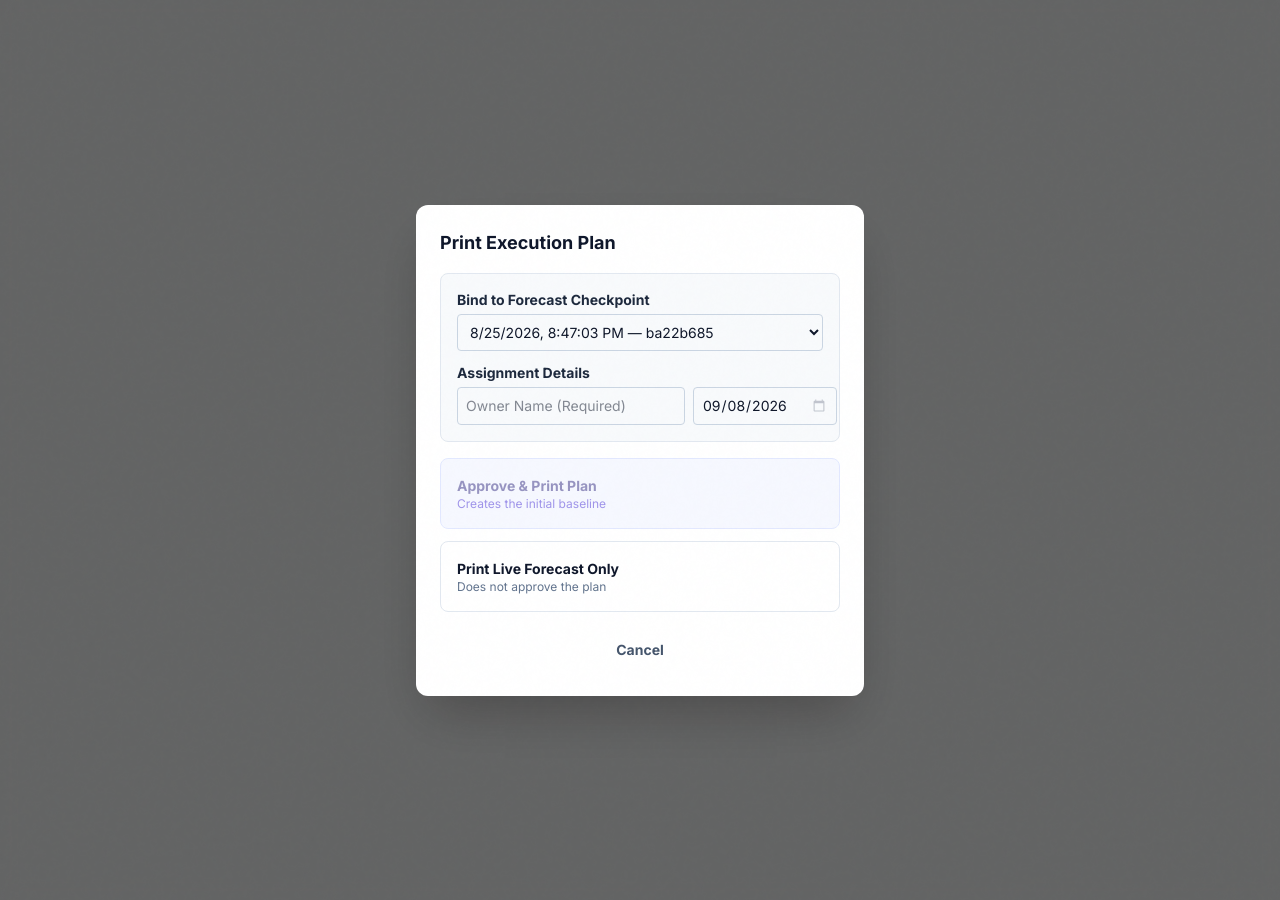
Test case: execution plan safety › shows the server rejection when approval is blocked
Type "John Michael" into the field with placeholder "Owner Name (Required)" at (571, 406), box [457,386,685,424]
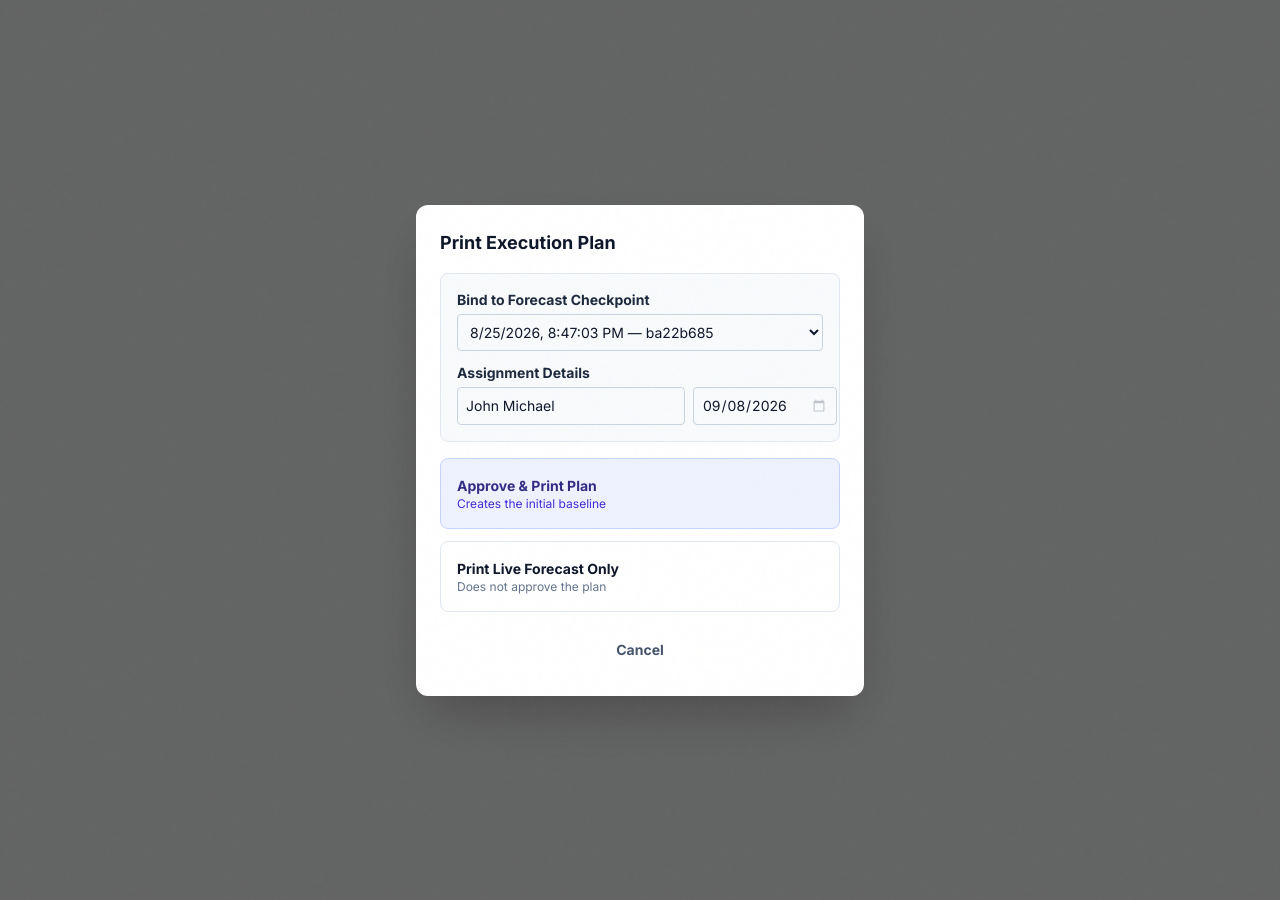
Click the button "Approve & Print Plan Creates the initial baseline" at (527, 485), box [440,458,840,528]
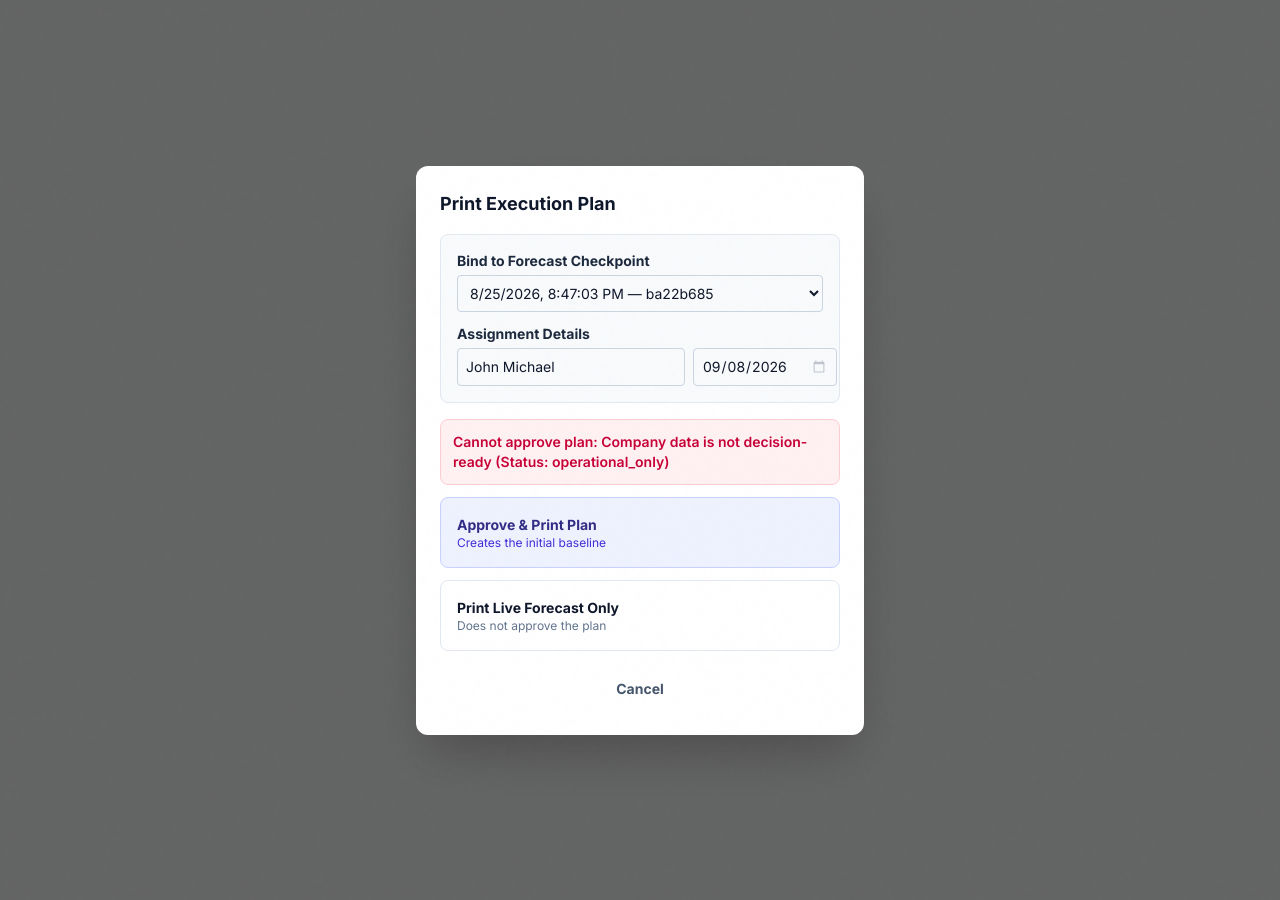
Check: the message shows "Cannot approve plan: Company data is not decision-ready (Status: operational_only)", box [453,432,807,470]
